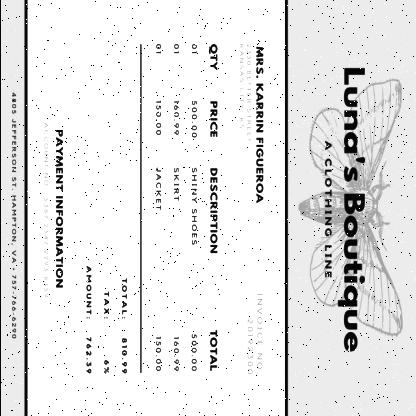Paragraph: (318, 62, 368, 357), (80, 261, 130, 384), (234, 40, 268, 210), (38, 119, 67, 303), (8, 87, 20, 342), (242, 288, 266, 380)
Table: (140, 37, 221, 378)
